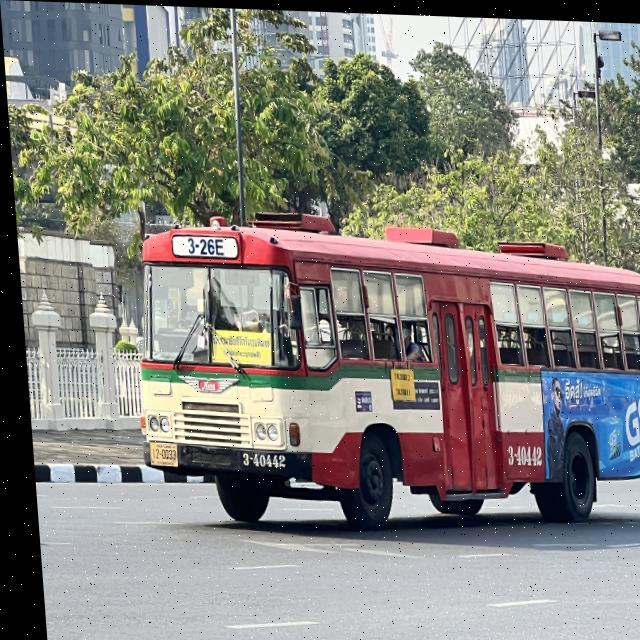BMTA-bus: (130, 216, 640, 528)
Bus Line Number: (175, 231, 226, 257)
Bus Side Number: (497, 438, 537, 464), (232, 449, 283, 469)
Destination Sign: (205, 325, 272, 368)
